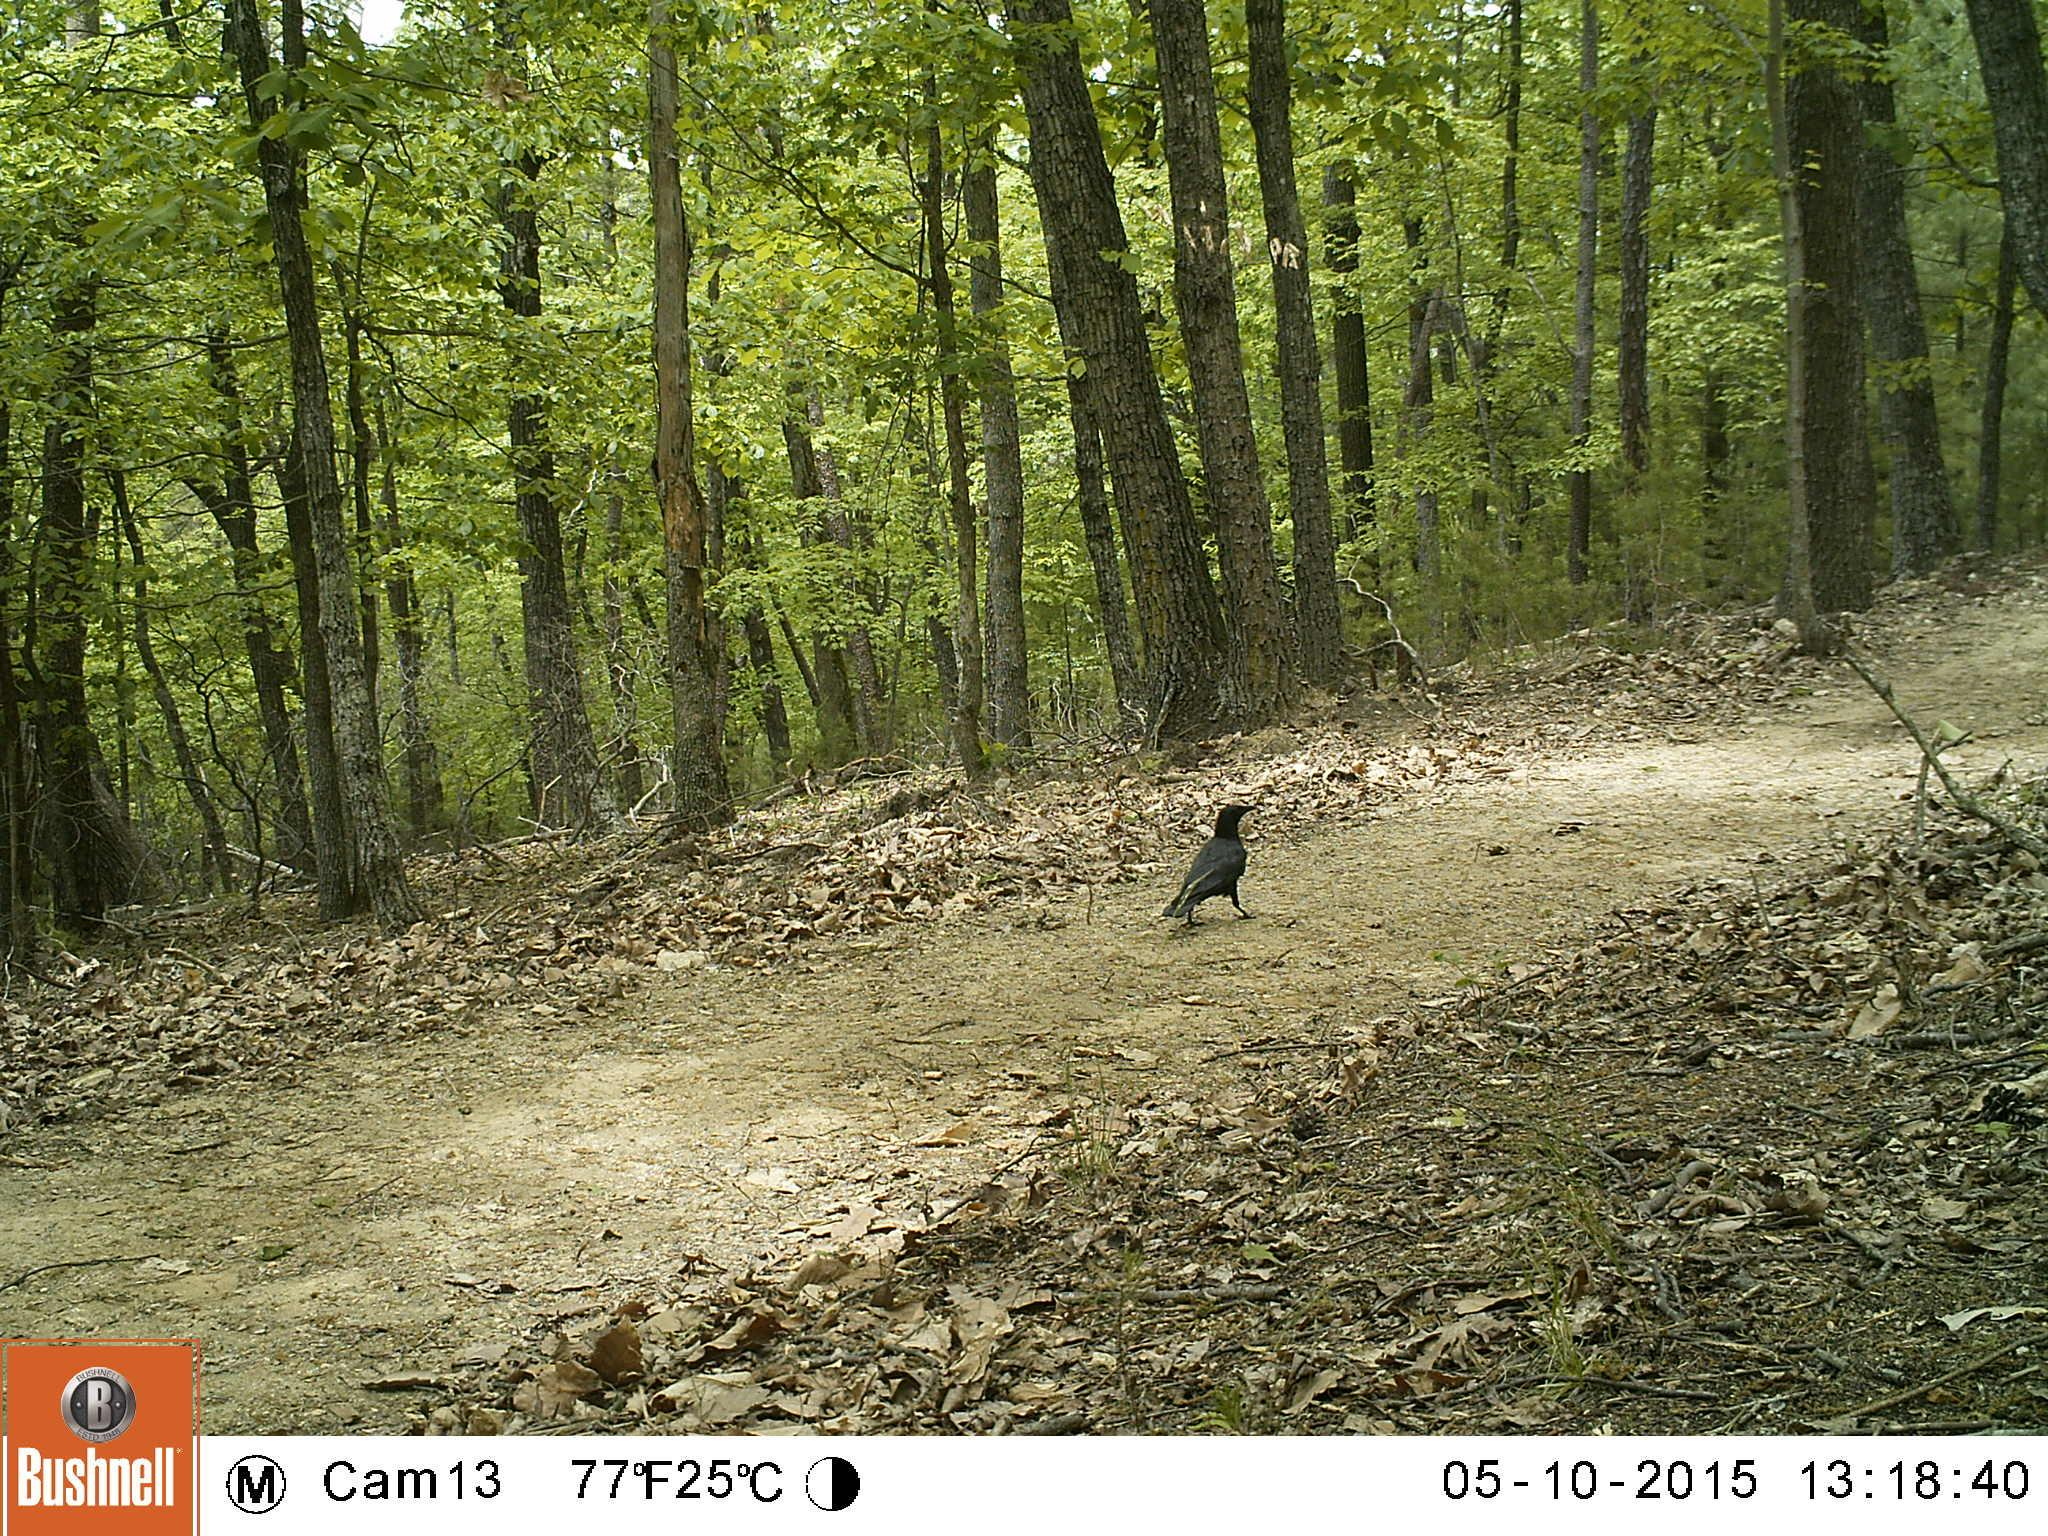Animal: (1164, 803, 1261, 941)
